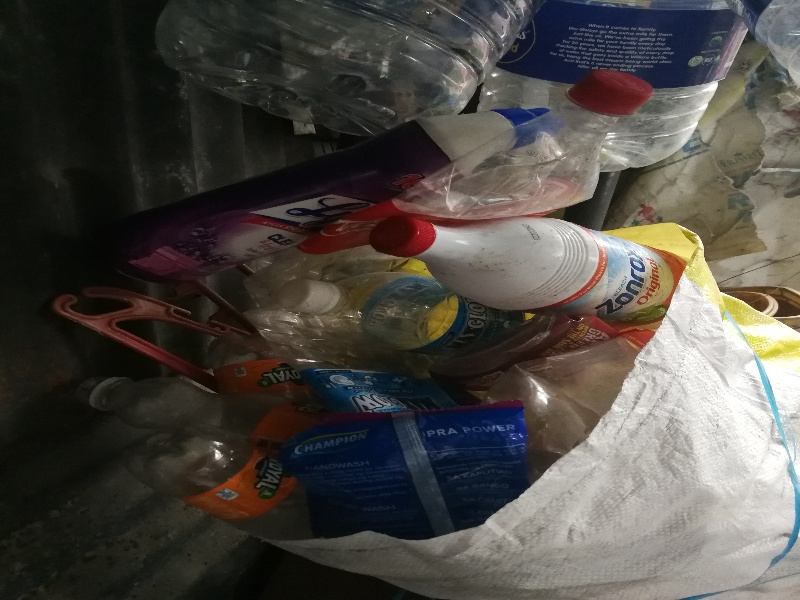PET #1: (158, 4, 748, 172), (83, 373, 322, 536), (413, 73, 657, 218), (274, 272, 515, 354)
